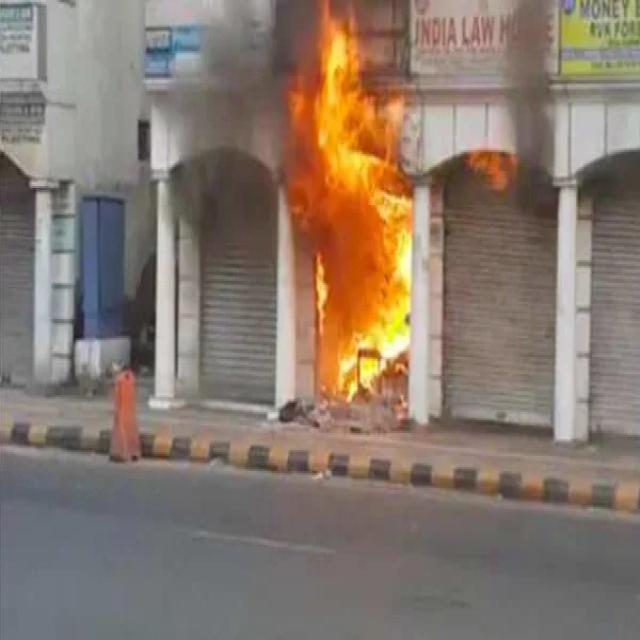fire: (286, 0, 414, 406)
